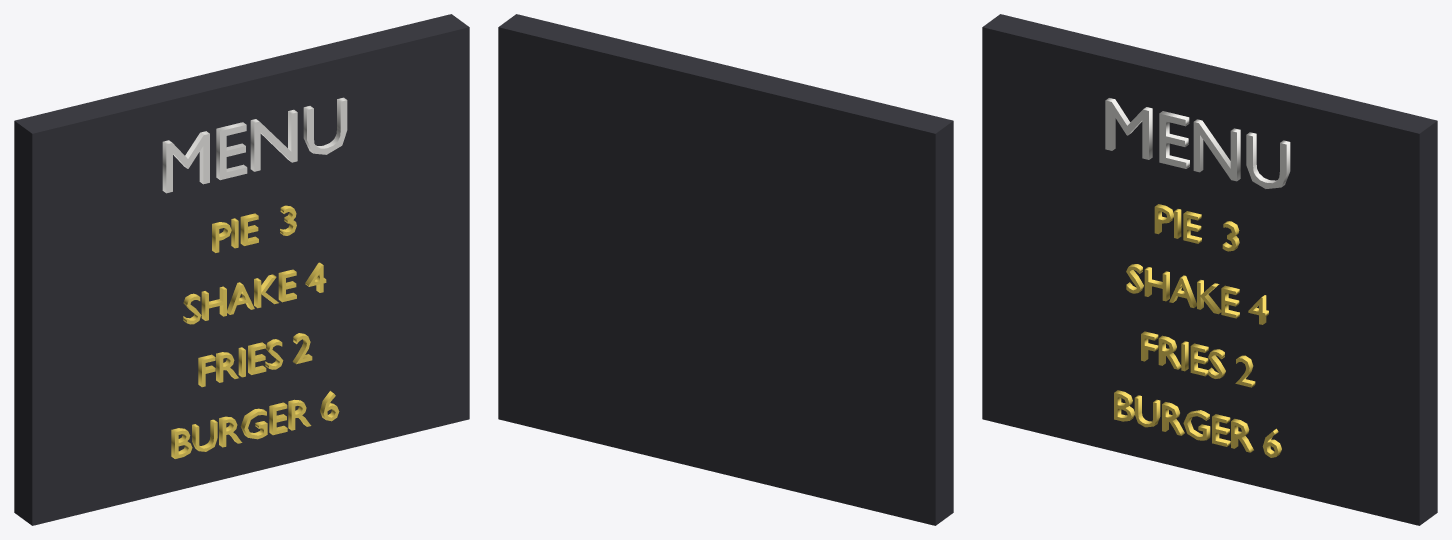
The model's file is diner_menu.glb.
3 views of the same model, side by side, from view 1: azimuth 30°, elevation 25°; view 2: azimuth 150°, elevation 25°; view 3: azimuth 330°, elevation 25° (orthographic).
Visible parts, largest first — view 1: diner_menu; view 2: diner_menu; view 3: diner_menu.
Boxes of the visible parts, bbox=[...] form: diner_menu: bbox=[14, 14, 469, 525]; diner_menu: bbox=[498, 14, 953, 525]; diner_menu: bbox=[982, 14, 1437, 525].
Bounding box in the file's own units: 1.4 × 1.2 × 0.13.
